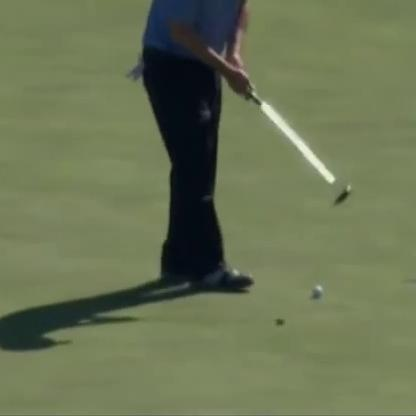golfball: (307, 283, 323, 296)
